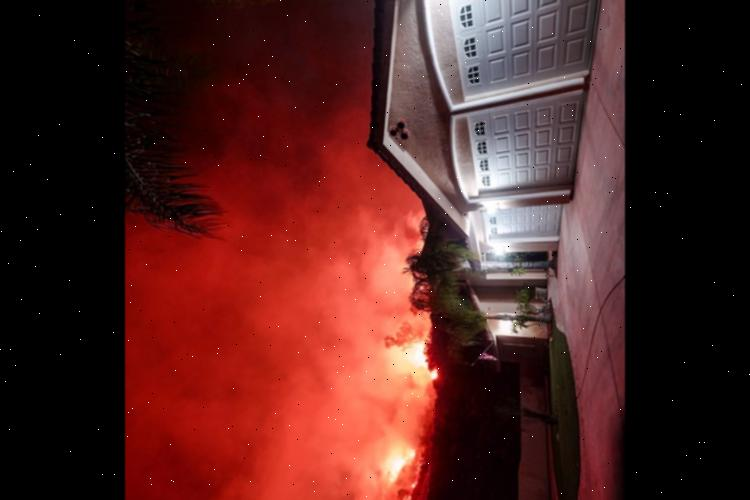fire: (331, 219, 442, 500)
